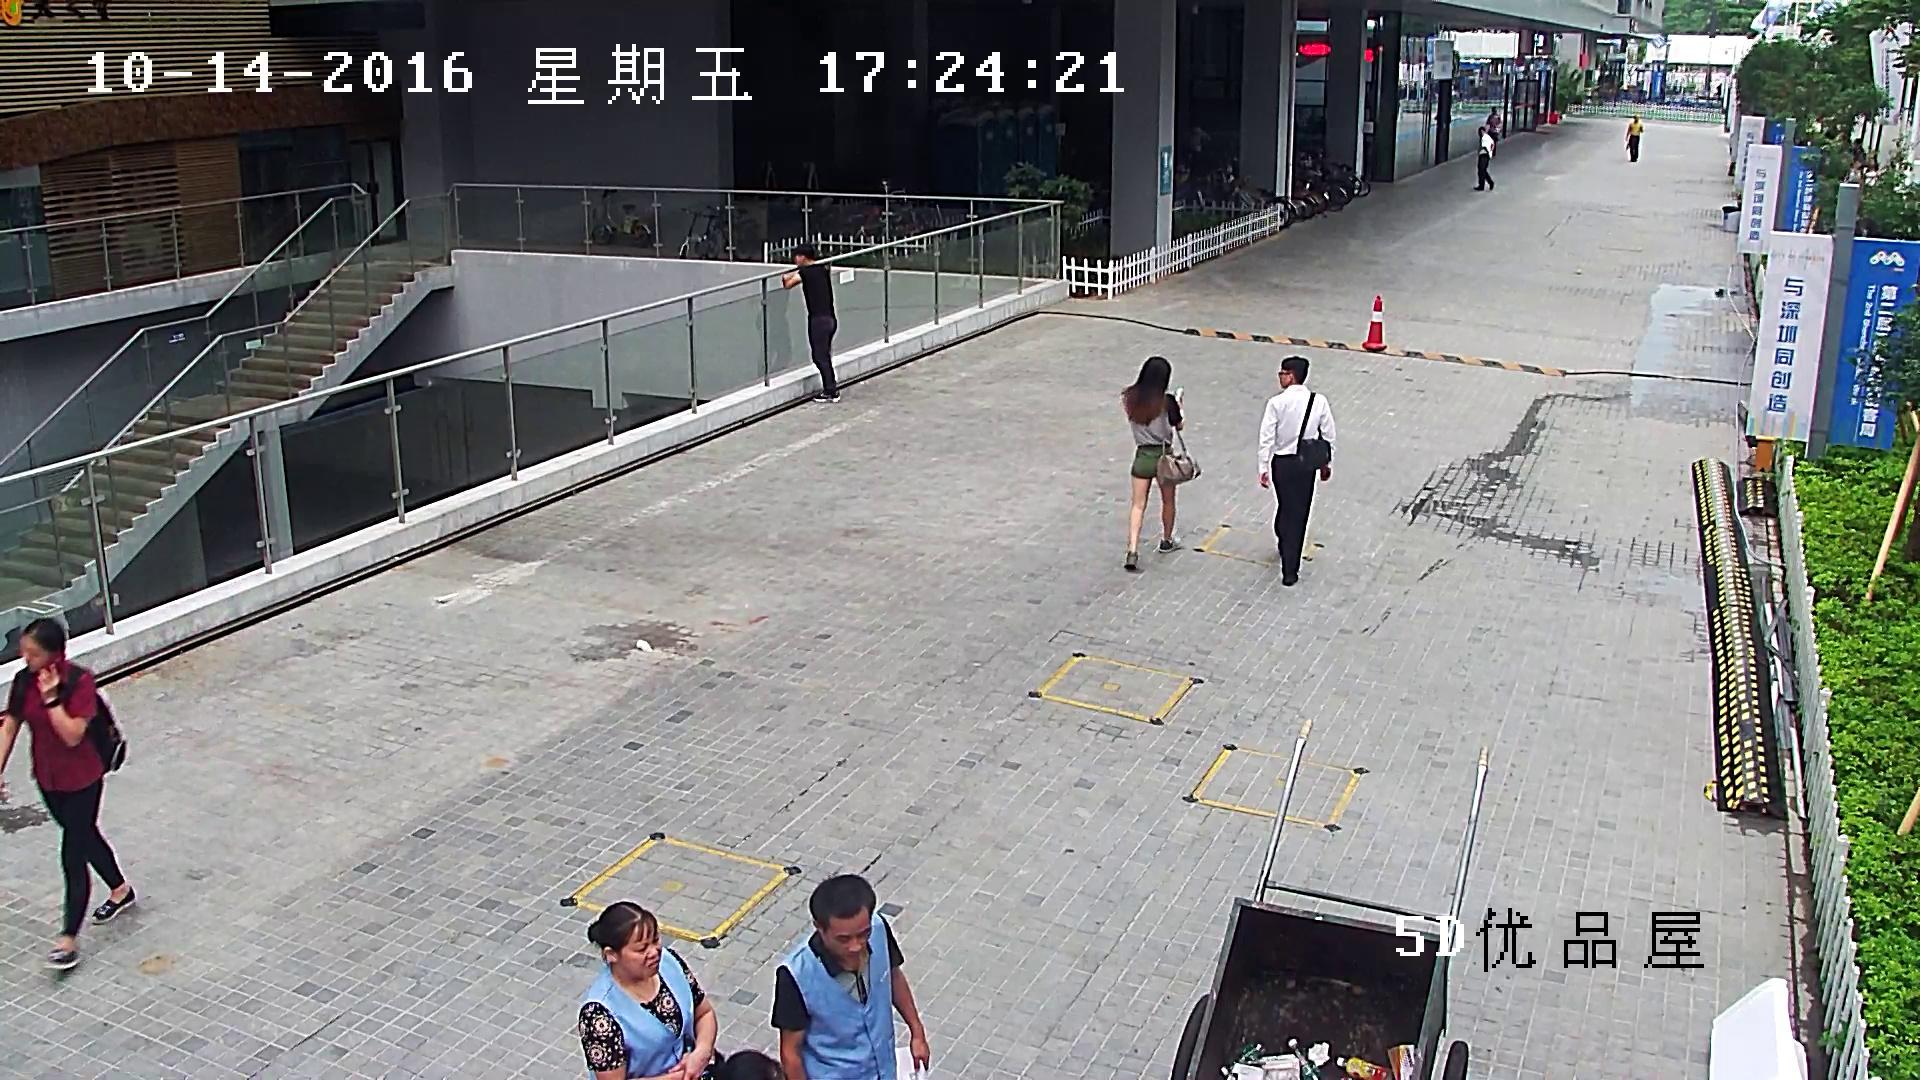person: (0, 616, 138, 974), (769, 875, 932, 1080), (575, 899, 717, 1080), (1257, 356, 1337, 587), (1119, 355, 1203, 570), (781, 241, 843, 405), (1473, 126, 1494, 192), (1625, 114, 1643, 161), (1484, 106, 1501, 143)
